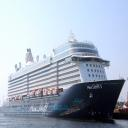cruises: (4, 28, 126, 125)
